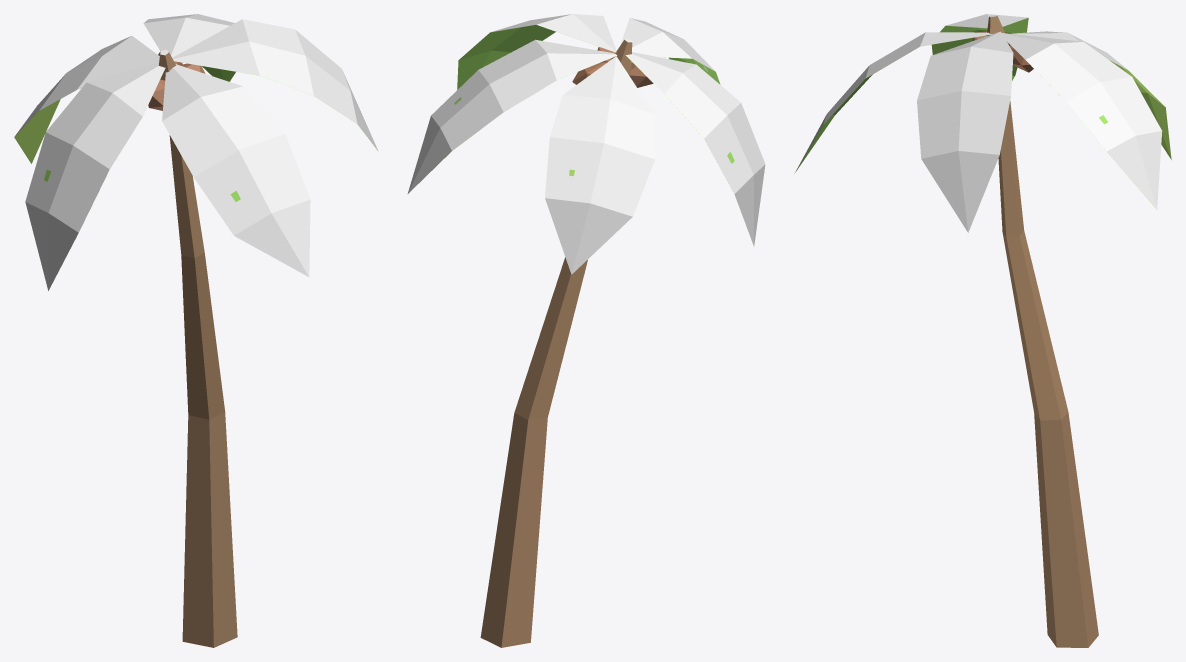
File: Palm_Tree_Coconut_s_Snow_06.fbx
The picture shows the model from 3 angles, left to right: view 1: azimuth 30°, elevation 25°; view 2: azimuth 150°, elevation 25°; view 3: azimuth 270°, elevation 25°; orthographic projection. The views are drawn at different scales.
Visible parts, largest first — view 1: Palm_Tree_Coconut_s_Snow_06; view 2: Palm_Tree_Coconut_s_Snow_06; view 3: Palm_Tree_Coconut_s_Snow_06.
Boxes of the visible parts, left/top/right/bottom form: Palm_Tree_Coconut_s_Snow_06: left=14, top=14, right=378, bottom=647; Palm_Tree_Coconut_s_Snow_06: left=407, top=14, right=765, bottom=647; Palm_Tree_Coconut_s_Snow_06: left=794, top=14, right=1171, bottom=647.
Bounding box in the file's own units: 211 × 393 × 229.
